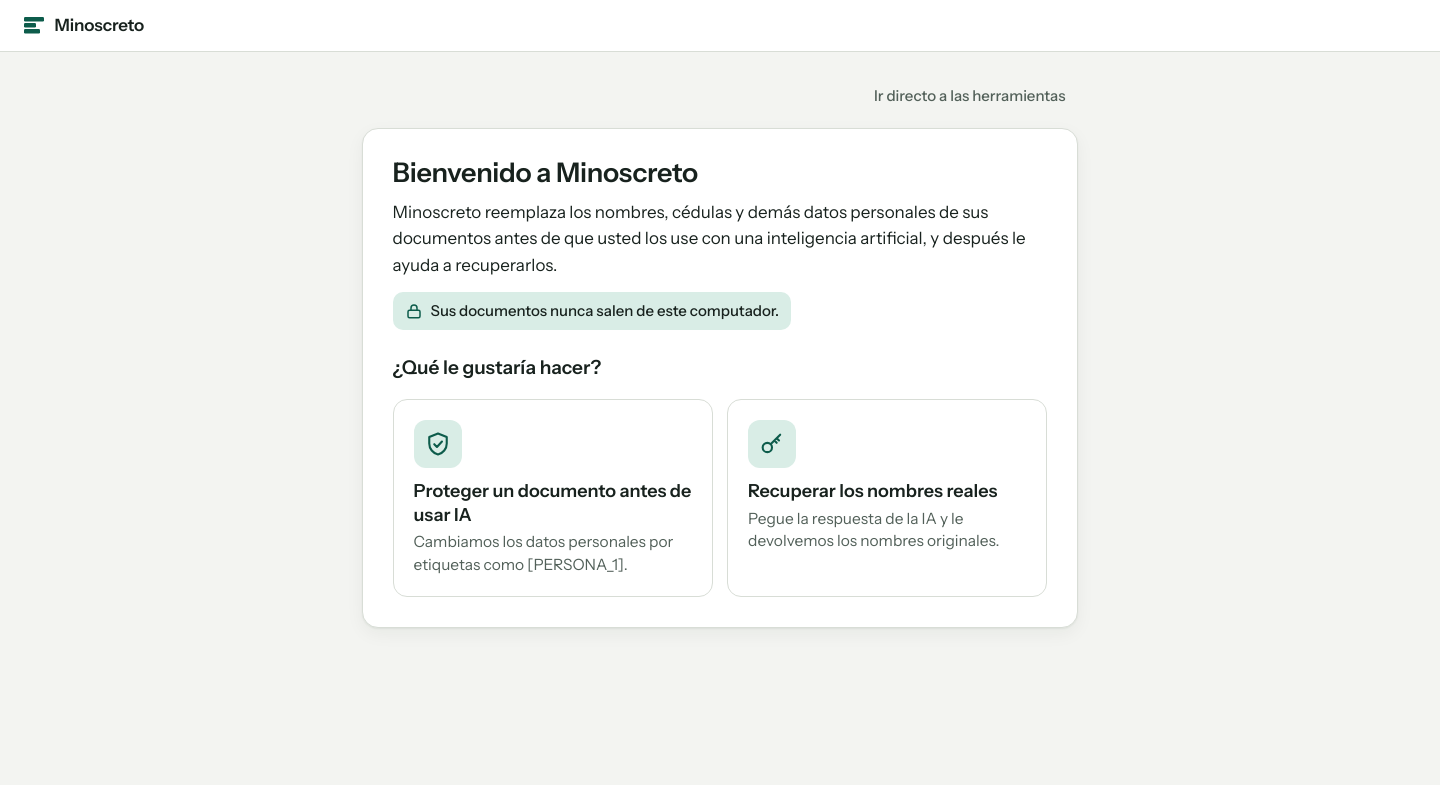
Test: descarga y copia en la app › Anonimizar: un clic baja el Word y luego el diccionario, con lista y botón para repetir el diccionario
What coordinates should you click on to do the following:
click the button "Proteger un documento"
I would click on:
 (553, 498)
Its box is [393,399,713,597].
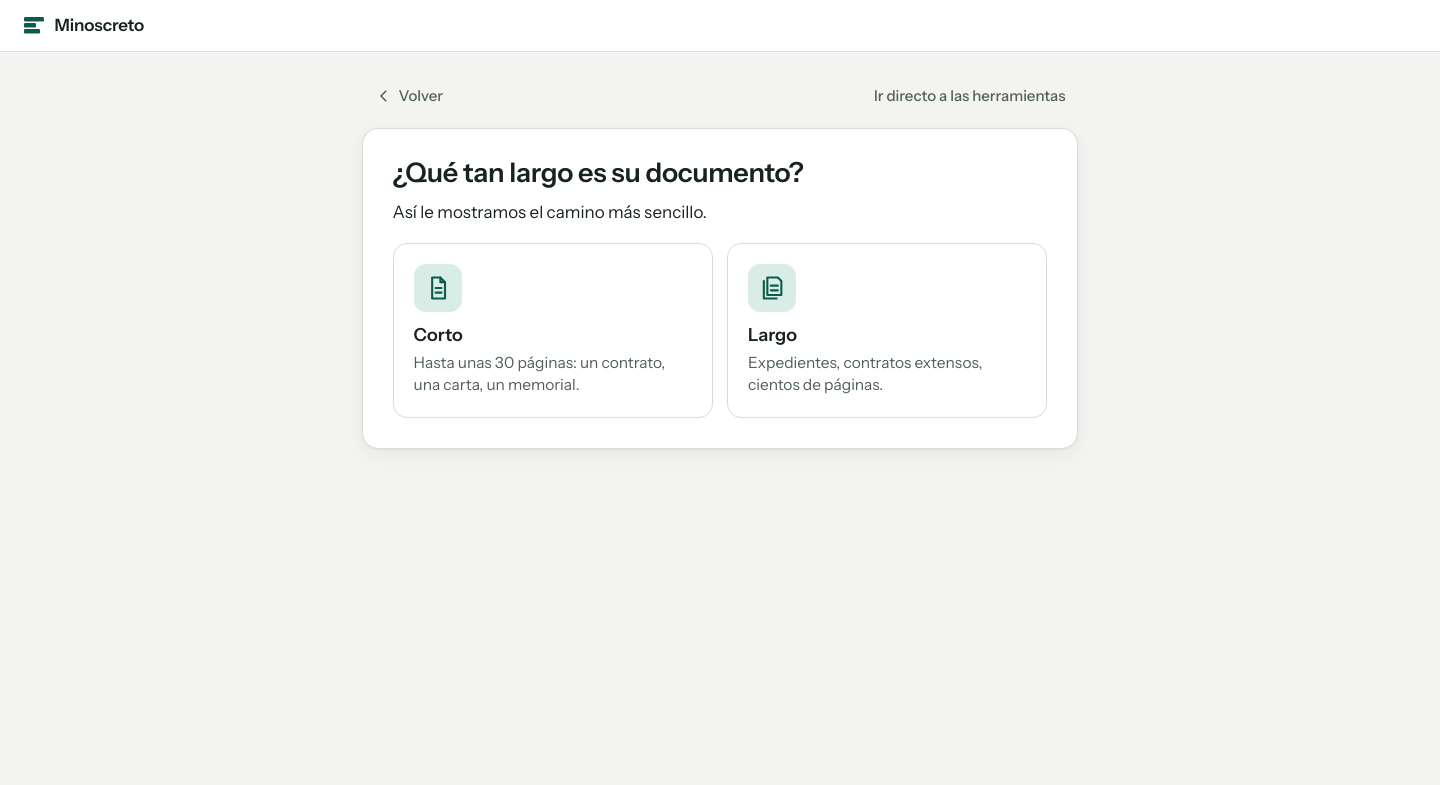
What coordinates should you click on to do the following:
click the button "Corto"
I would click on:
 (438, 288)
Its box is [393,243,713,418].
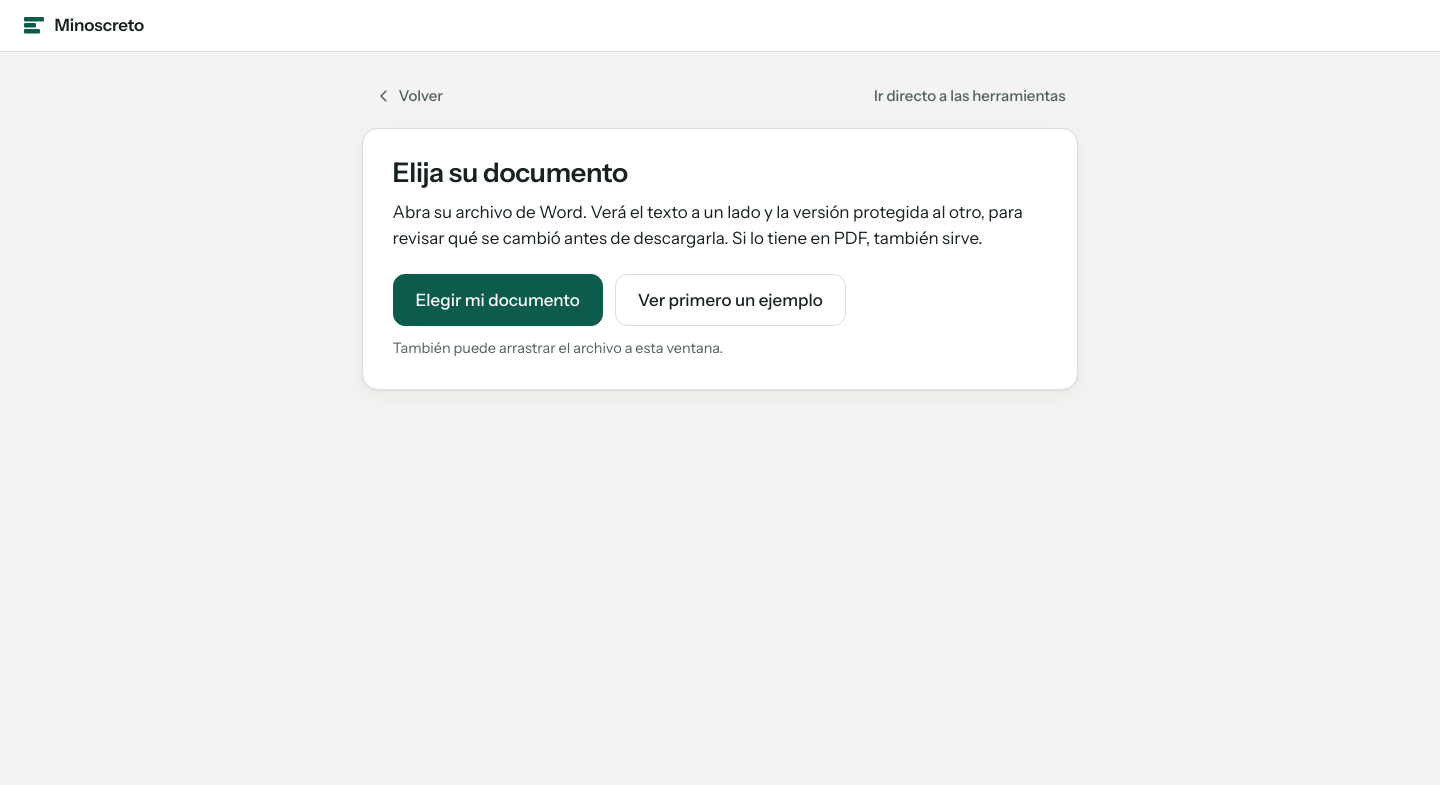
What coordinates should you click on to do the following:
click the button "Ver primero un ejemplo"
I would click on:
 (730, 300)
Its box is [615,274,846,326].
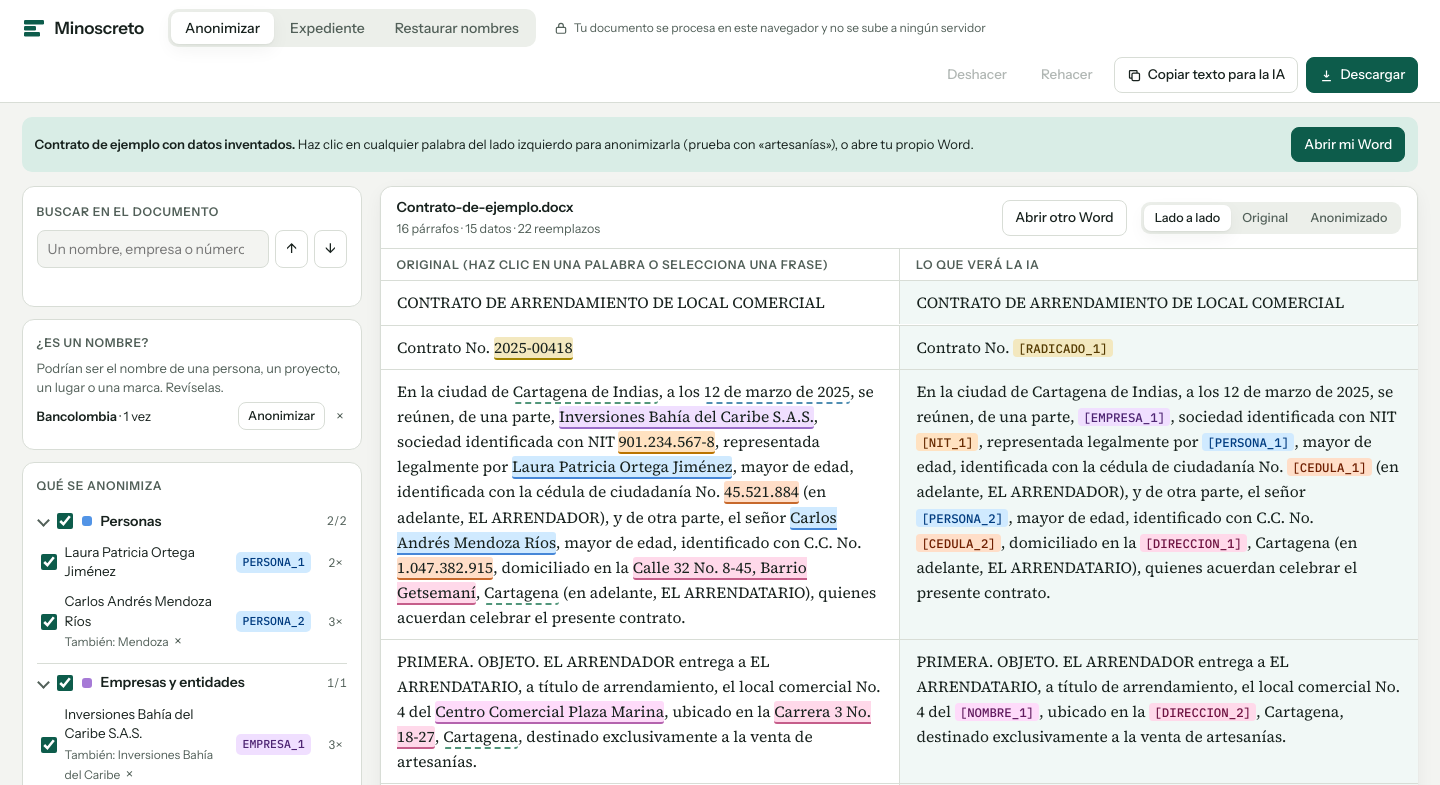
Expected: the button "Diccionario" is not shown
What coordinates should you click on to do the following:
click the button "Descargar"
I would click on:
 (1362, 75)
Its box is [1306,57,1418,93].
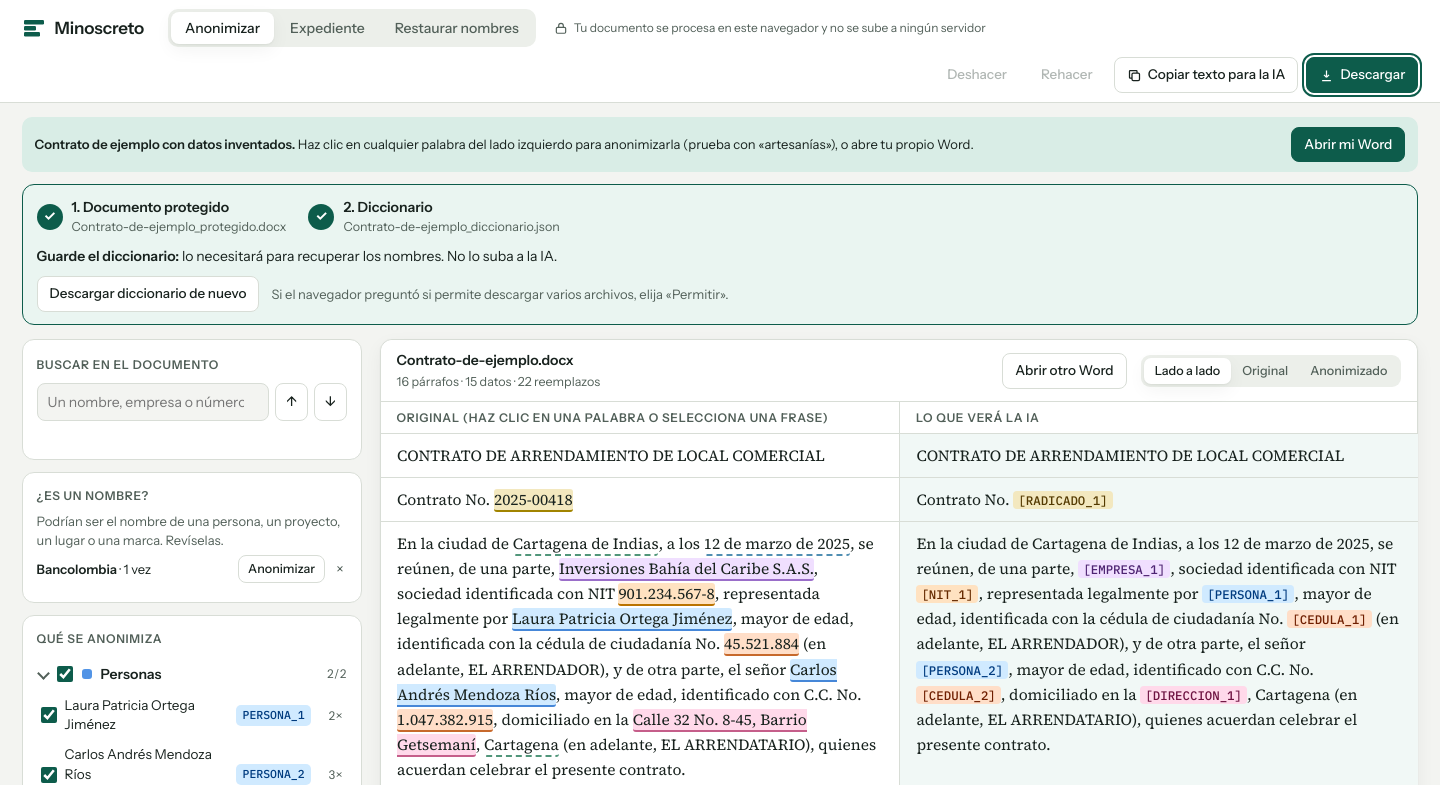
Expected: the message with class "dl-receipt" shows "Guarde el diccionario", [37,247,179,265]
What coordinates should you click on to do the following:
click the button "Descargar diccionario de nuevo"
I would click on:
 (148, 294)
Its box is [37,276,259,312].
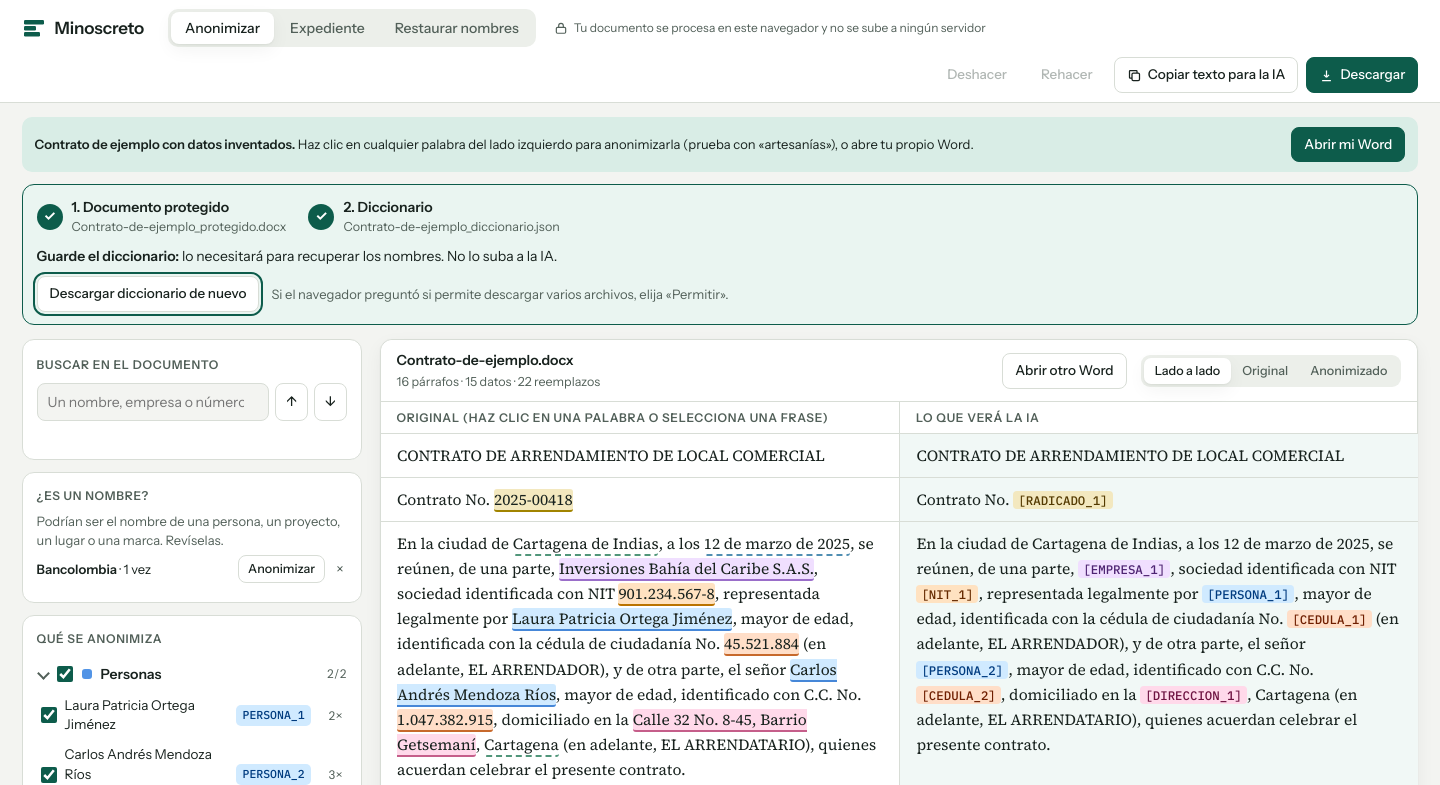
What coordinates should you click on to do the following:
click the button "Copiar texto para la IA"
I would click on:
 (1206, 75)
Its box is [1114,57,1298,93].
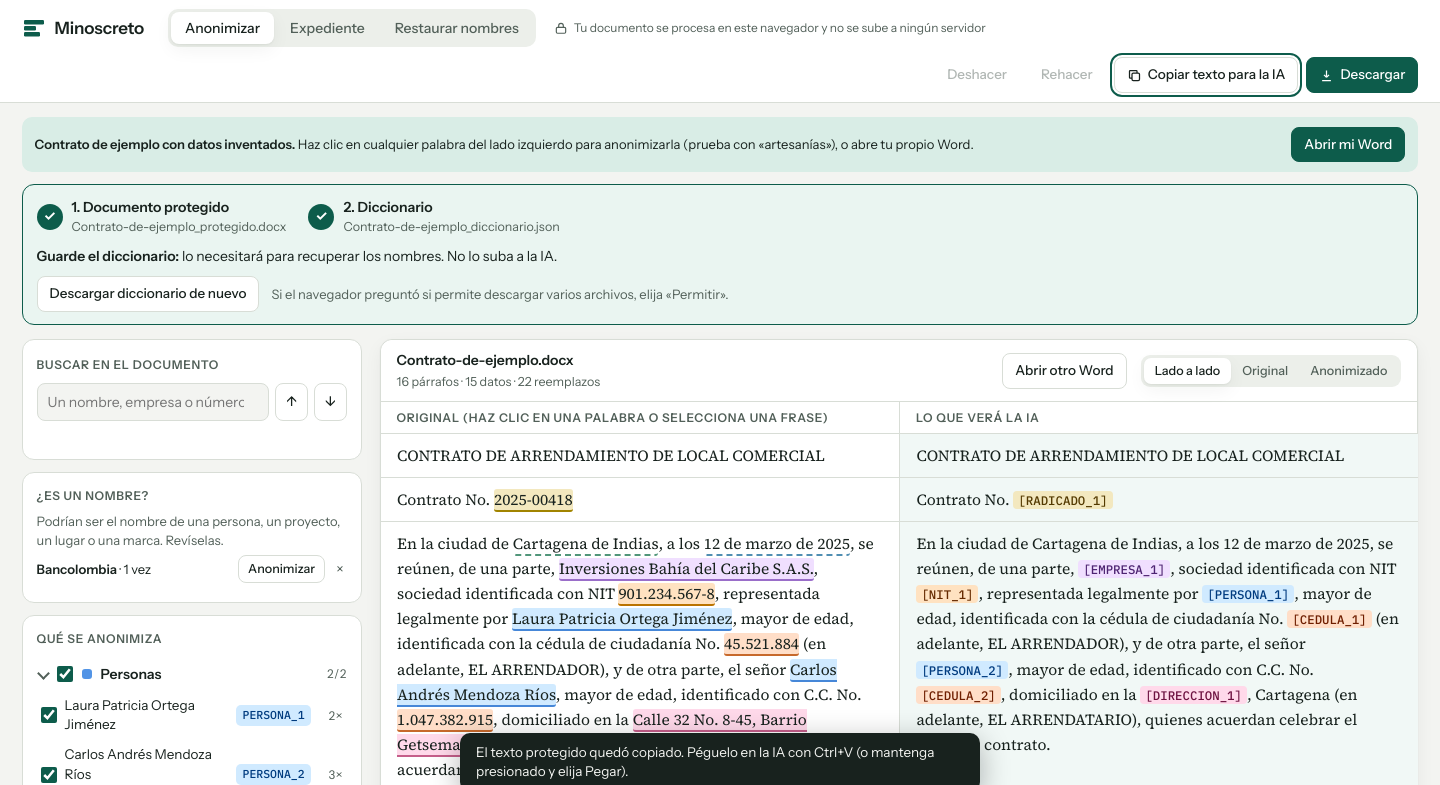
Expected: the message with class "toast" shows "quedó copiado", [476,744,934,780]
